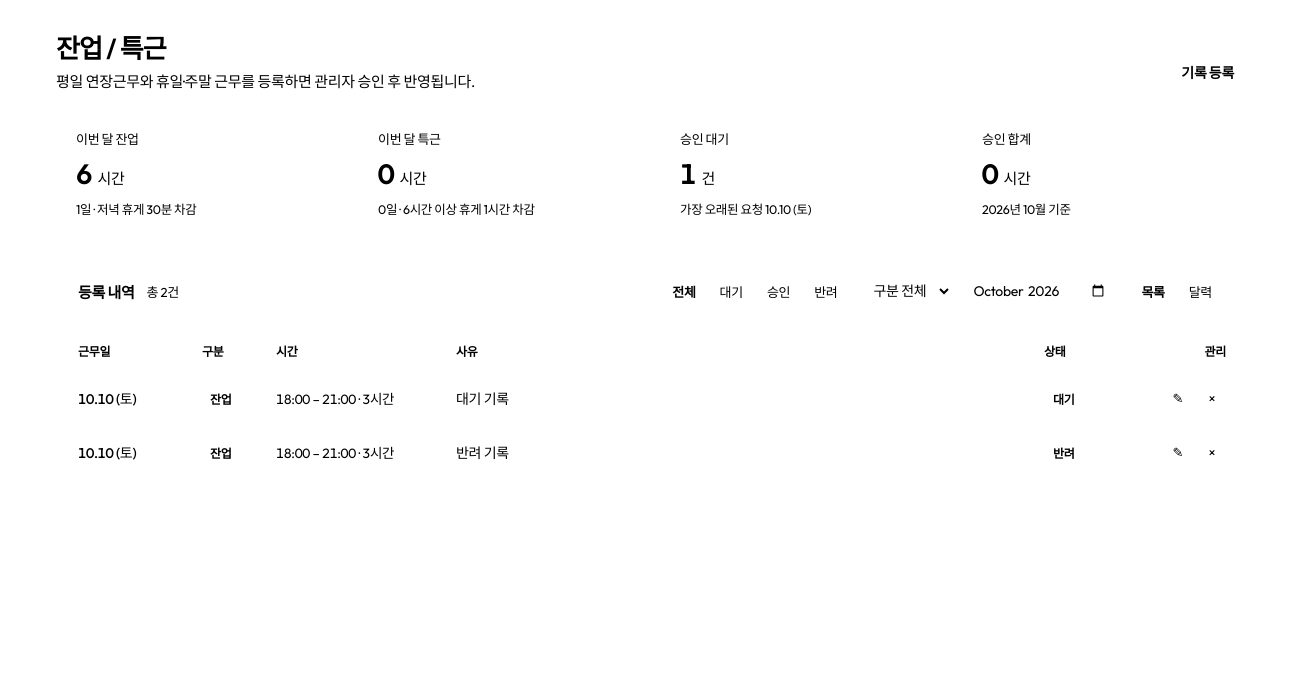
Test: OvertimeRecordsPage — 필터 › 달력 보기에서도 상태 필터가 기록에 적용된다
This screenshot has width=1292, height=696.
Expected: the text "대기 기록" is shown, [456, 390, 509, 408]
Click the button "반려" at coordinates (826, 291), box [803, 277, 848, 305]
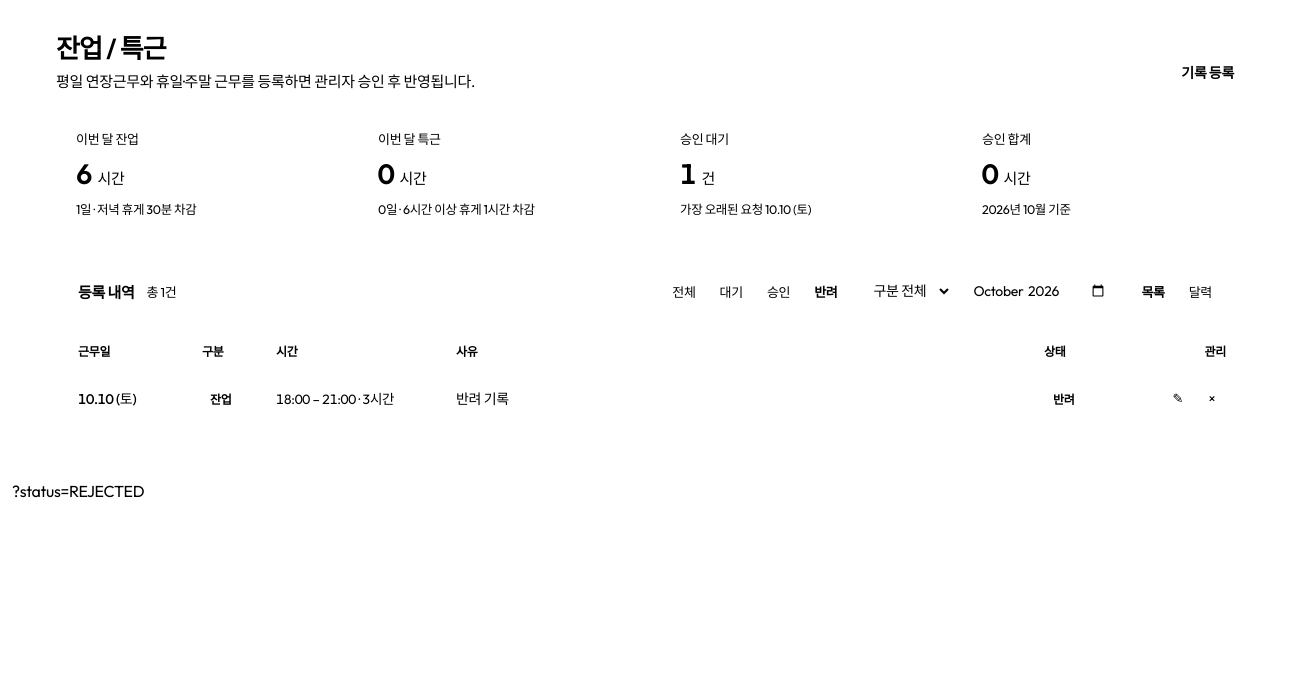
Click the button "달력" at coordinates (1200, 291), box [1178, 277, 1223, 305]
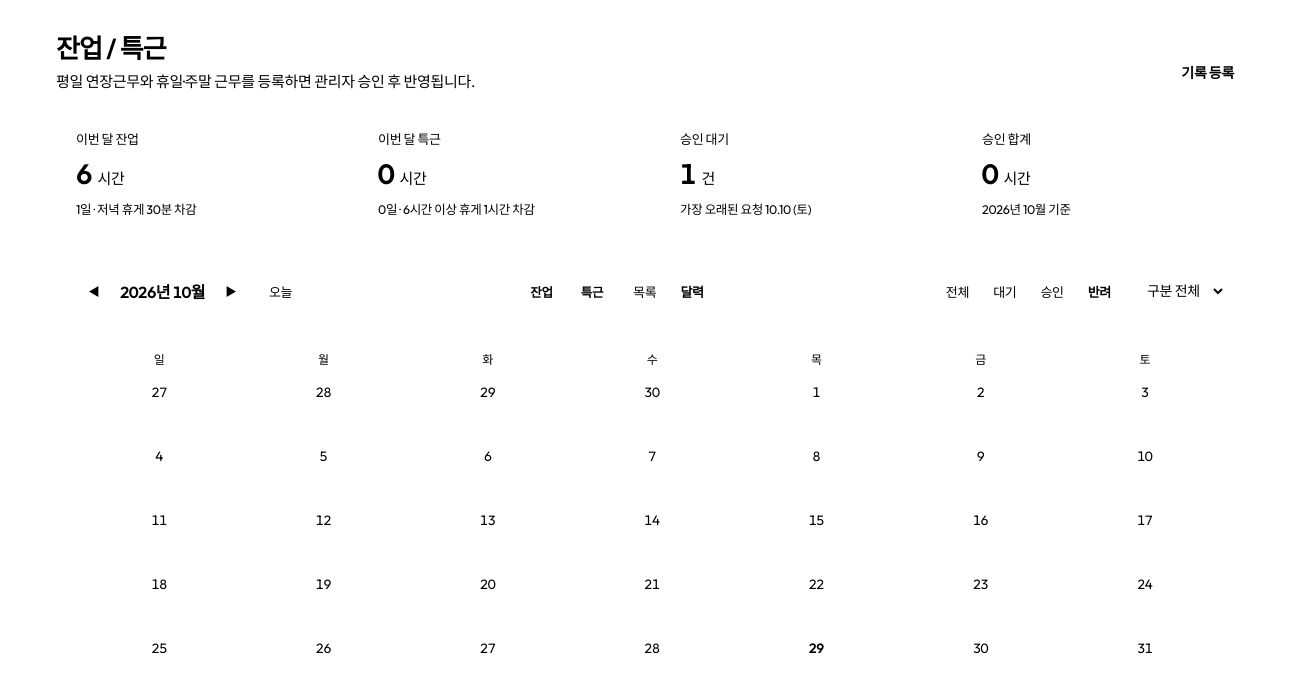
Click the button "10" at coordinates (1145, 470), box [1064, 439, 1226, 501]
(page scrolled)
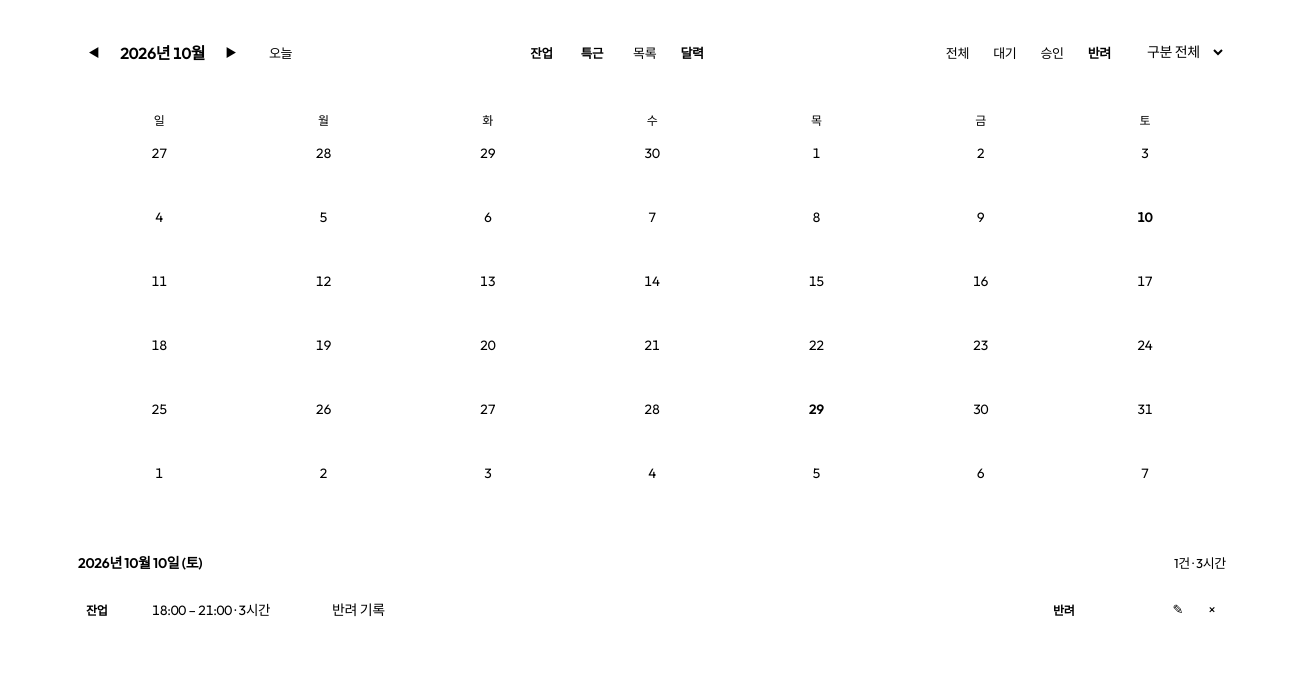
Expected: the text "대기 기록" is not shown
Expected: the text "반려 기록" is shown, [332, 601, 385, 619]
